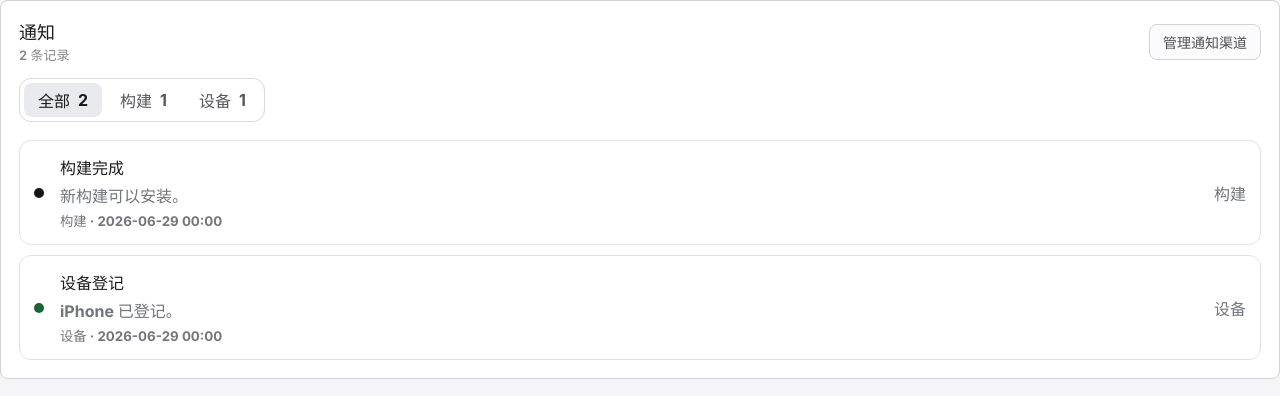
it: ordinary admin pages › filters notifications without reloading the document
Expected: the text "构建完成" is shown, x1=60 y1=158 x2=124 y2=178
Click the button "设备 1". click: (222, 100)
box: x1=185 y1=83 x2=260 y2=117
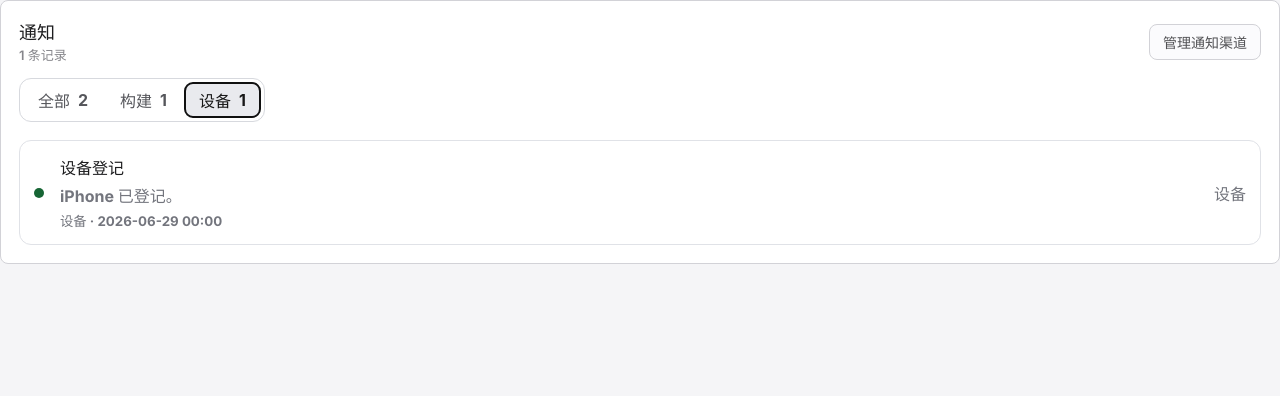
Expected: the text "设备登记" is shown, x1=60 y1=158 x2=124 y2=178
Expected: the text "构建完成" is gone
